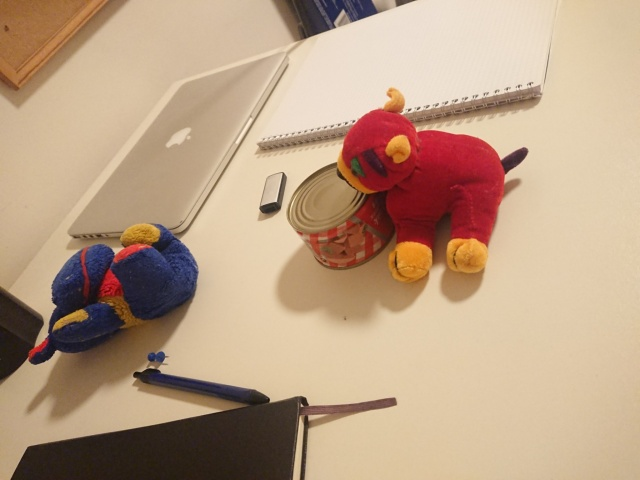Podravka Luncheon Meat 150g: (284, 160, 405, 272)
